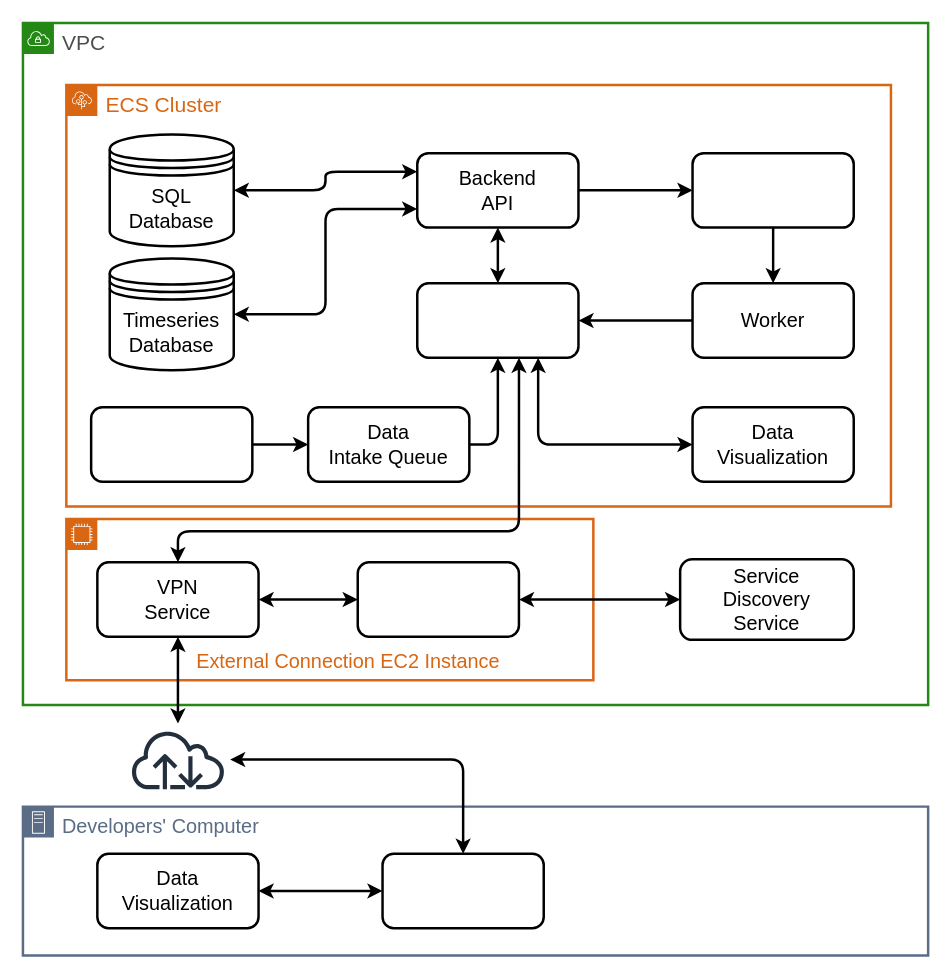
Some shapes in this 950 by 977 pixel diagram are drawn without their labels. Here are the shapes that lost their labels. From the top down, the centre of each, then its label:
(x=772, y=189): Task Queue
(x=497, y=319): Backend Load Balancer
(x=171, y=443): Data Intake
(x=438, y=598): DNS Service
(x=177, y=759): Internet
(x=462, y=890): VPN Client
